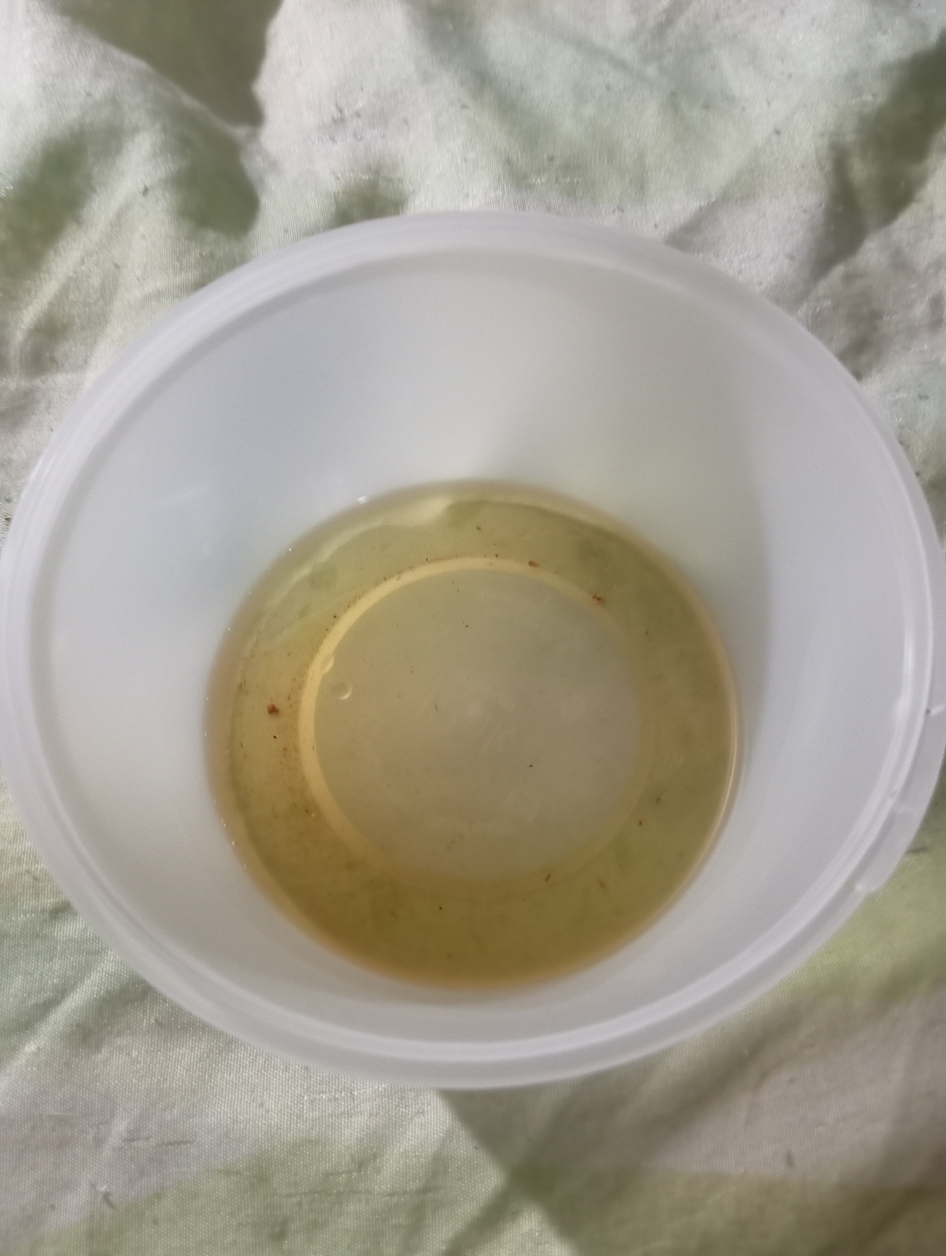reusable: (209, 480, 730, 997)
